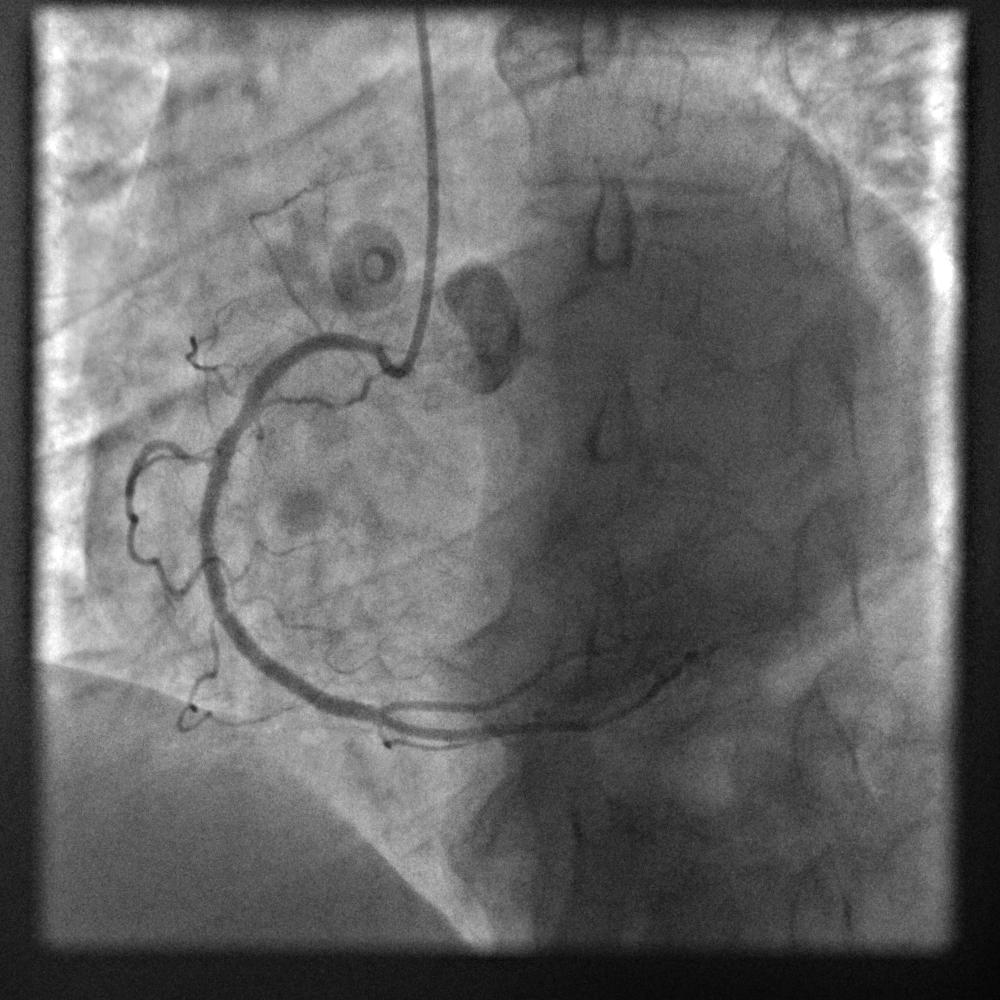Stenosis: (213, 385, 260, 444)
